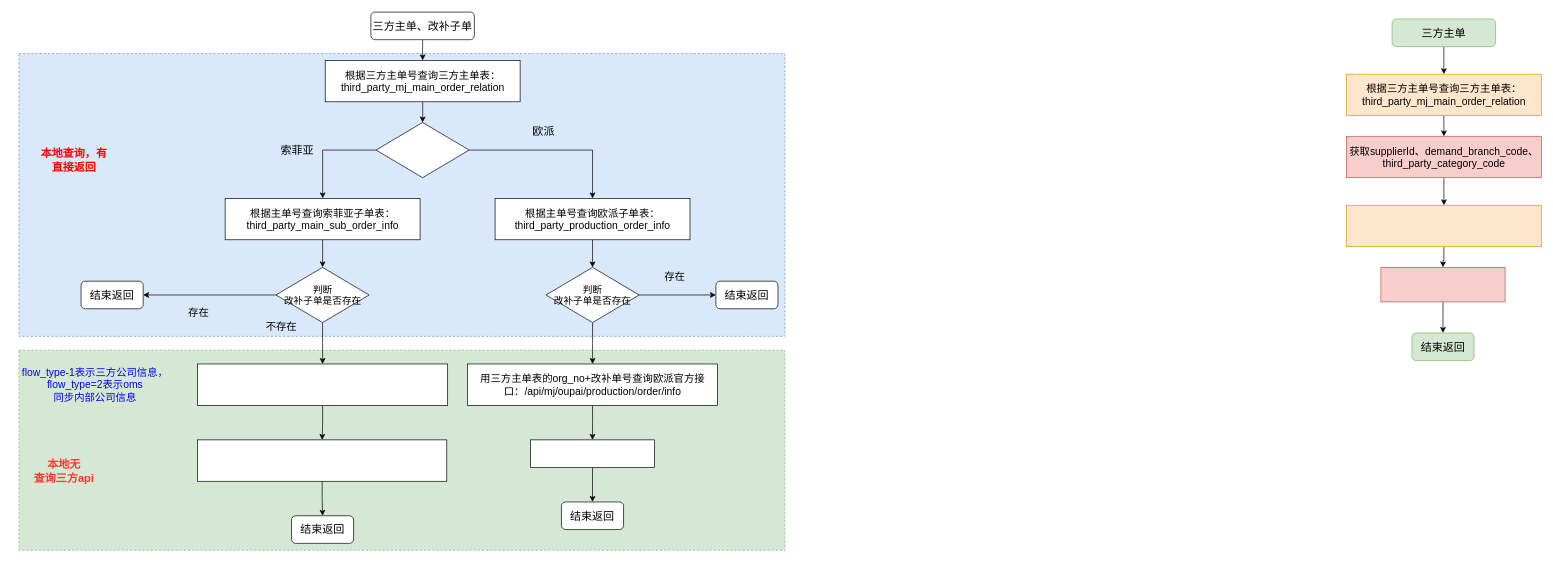
This 1553x562 diagram has some shape labels left out. Each missing label, with the box of its shape:
判断 欧派/索菲亚: (375, 122, 469, 178)
判断改补单详情是否存在: (530, 439, 655, 467)
得到改补单发货类型 change_order_ship_type: (1380, 267, 1505, 302)
根据以上条件查询品牌类目表：third_party_brand_category_relation: (1346, 205, 1541, 247)
用三方主单表的dealer_id + flow_type = 1查询公司信息表 third_party_dealer_info获取order_account: (197, 363, 448, 405)
遍历order_account查询索菲亚官方接口 /api/mj/query/sfy/queryChangeServiceOrder，判断是否有改补单: (197, 439, 447, 481)
